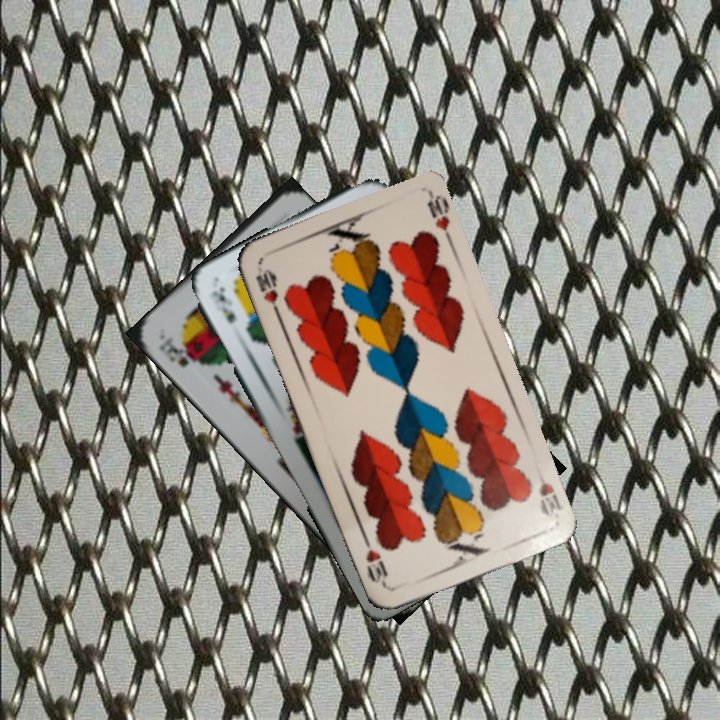EK: (207, 284, 239, 327)
H10: (532, 464, 565, 520), (251, 265, 282, 318)
SK: (155, 332, 198, 370)
